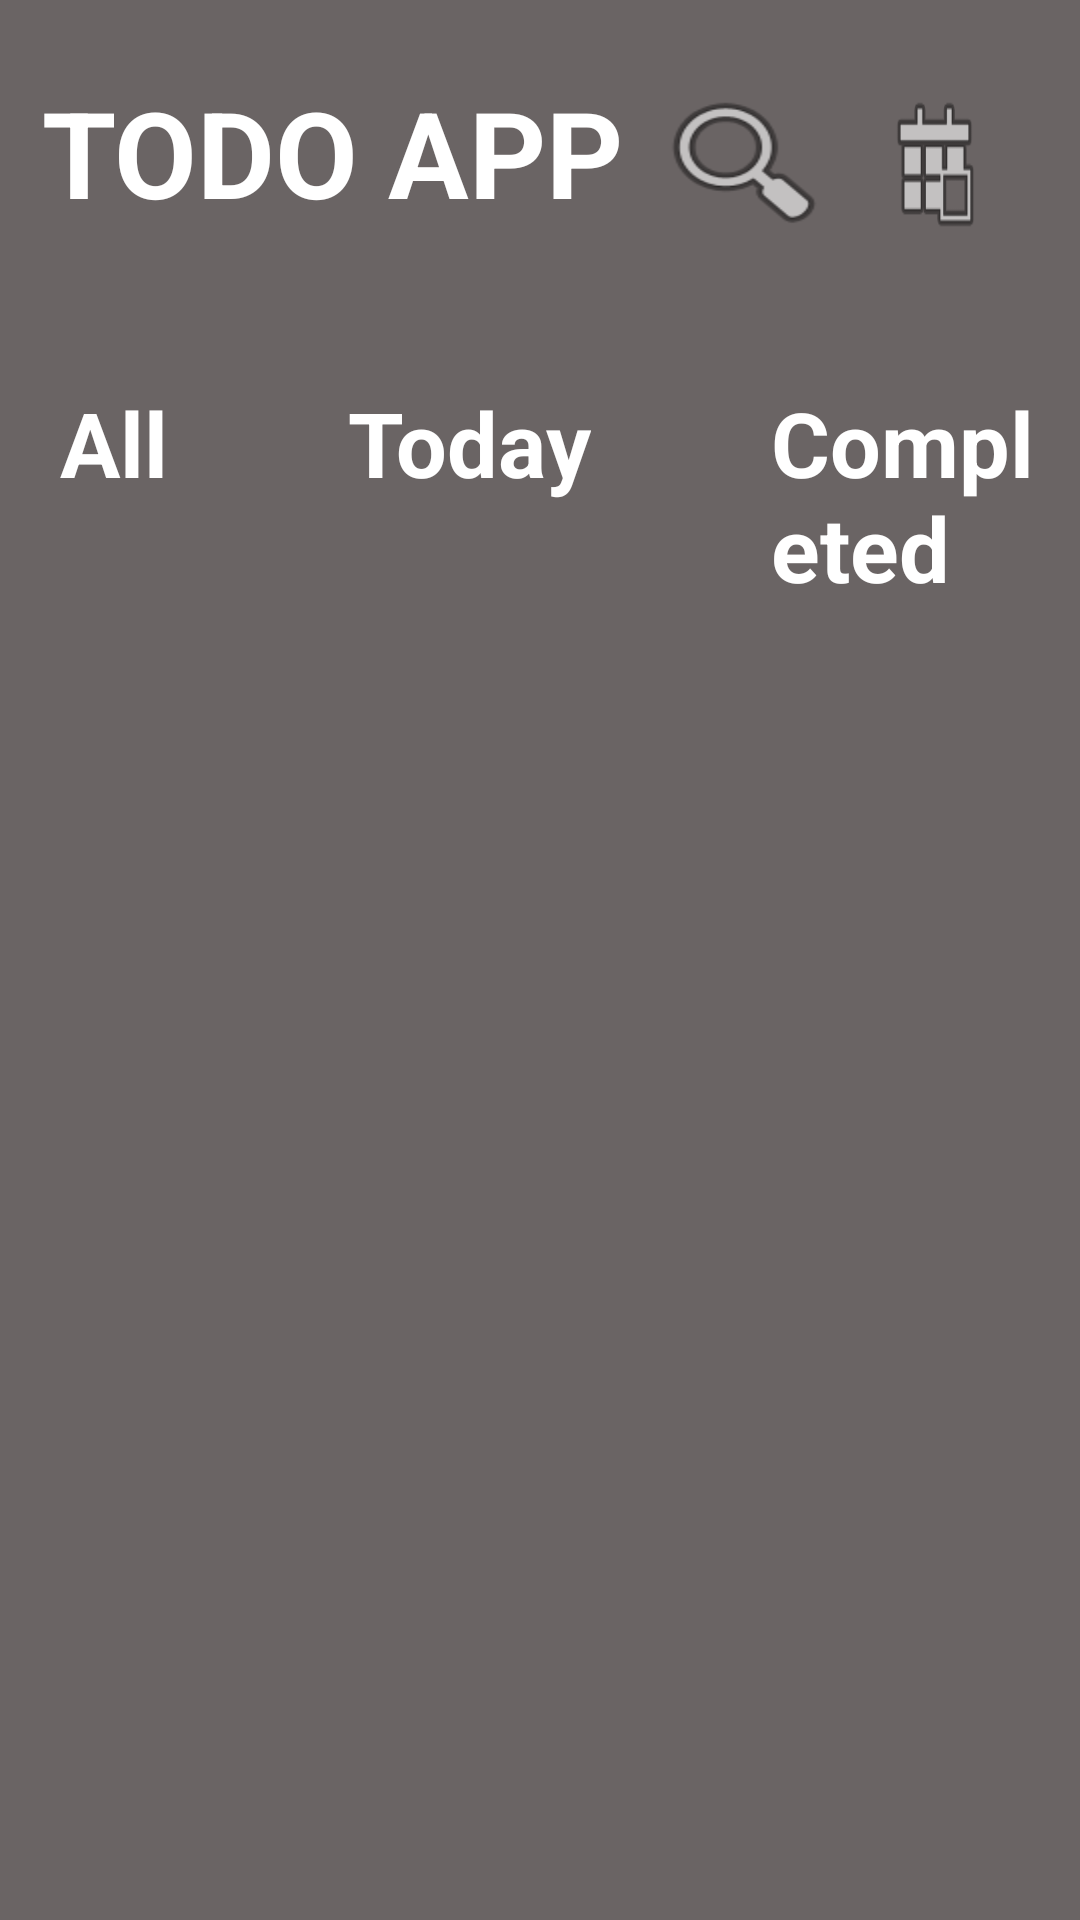

Icon bounding boxes for this 1080×1920 phone screenshot, format {"left": x1, "top": y1, "right": x2, "bottom": y2}:
search: {"left": 674, "top": 103, "right": 814, "bottom": 222}
today: {"left": 898, "top": 104, "right": 973, "bottom": 225}
